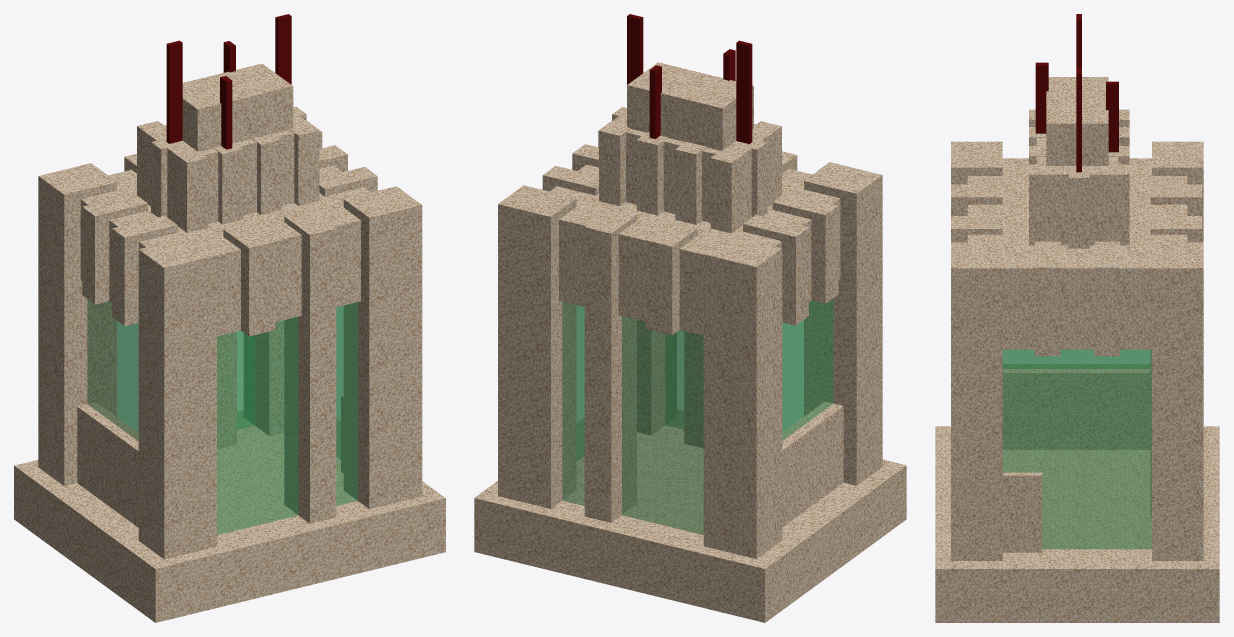
Rendered from colum_4.FBX.
3 renders of one model, left to right at view 1: azimuth 30°, elevation 25°; view 2: azimuth 150°, elevation 25°; view 3: azimuth 270°, elevation 25°, orthographic.
Visible parts, largest first — view 1: 6_door3; view 2: 6_door3; view 3: 6_door3.
Boxes of the visible parts, box(x1,y1,x2,y2) form: 6_door3: box(14, 14, 445, 622); 6_door3: box(474, 14, 906, 622); 6_door3: box(935, 14, 1219, 622).
Size of the model in its own units: 2200 by 3658 by 1856.
